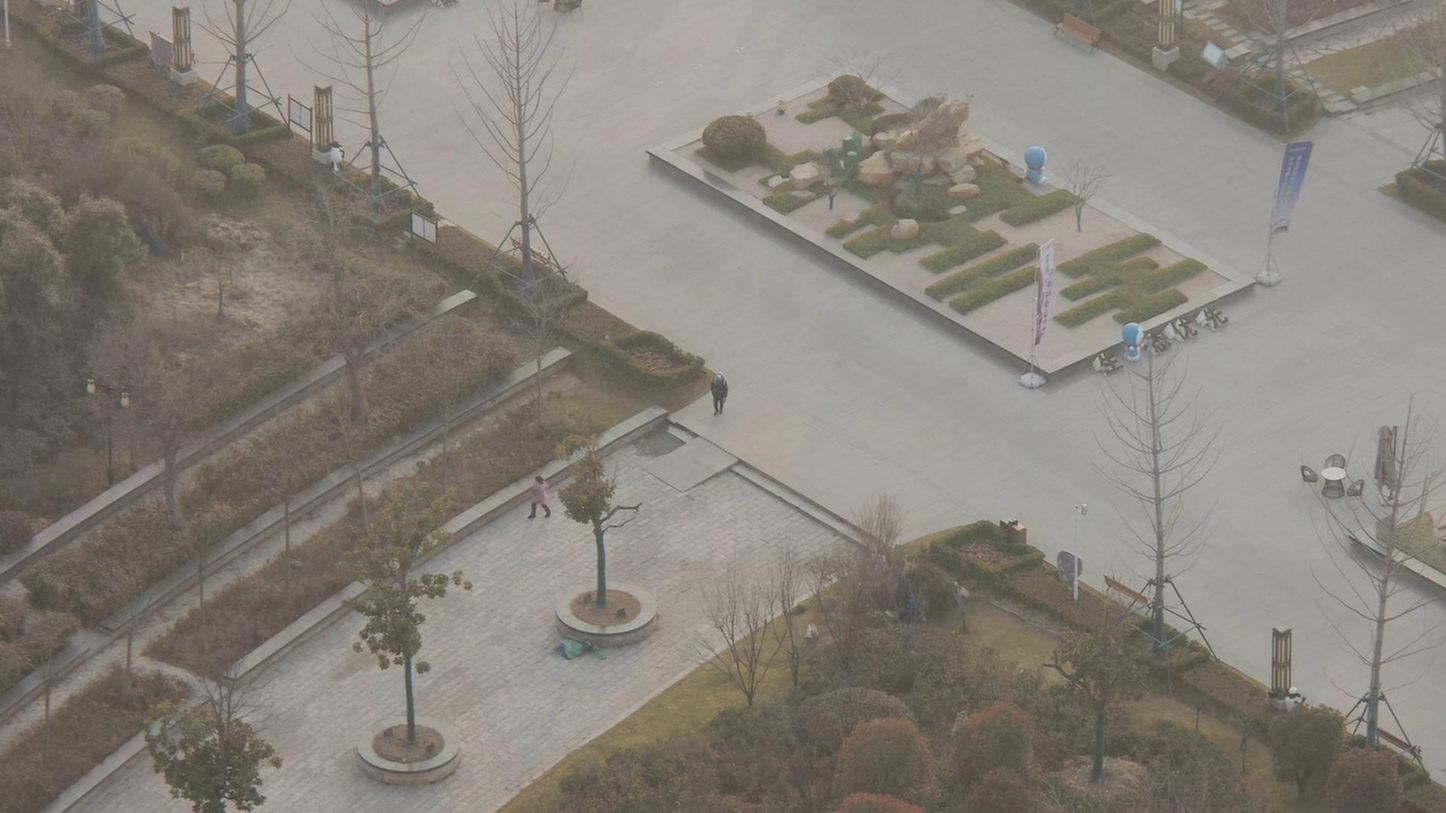human: (703, 356, 735, 425), (530, 452, 560, 517)
